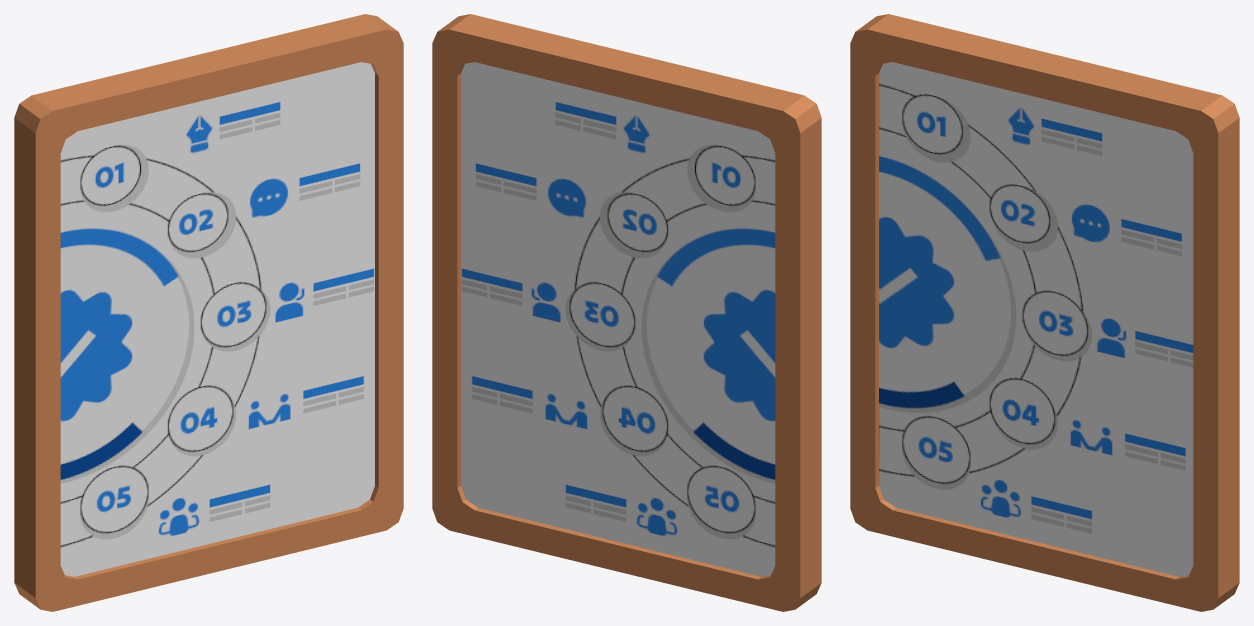
File: Props_Poster_07.fbx
The picture shows the model from 3 angles, left to right: view 1: azimuth 30°, elevation 25°; view 2: azimuth 150°, elevation 25°; view 3: azimuth 330°, elevation 25°; orthographic projection.
Visible parts, largest first — view 1: Props_Poster_07; view 2: Props_Poster_07; view 3: Props_Poster_07.
Boxes of the visible parts, x1,y1,x2,y2 form: Props_Poster_07: (14, 14, 403, 611); Props_Poster_07: (432, 14, 821, 611); Props_Poster_07: (850, 14, 1239, 611).
Bounding box in the file's own units: 100 × 130 × 10.
